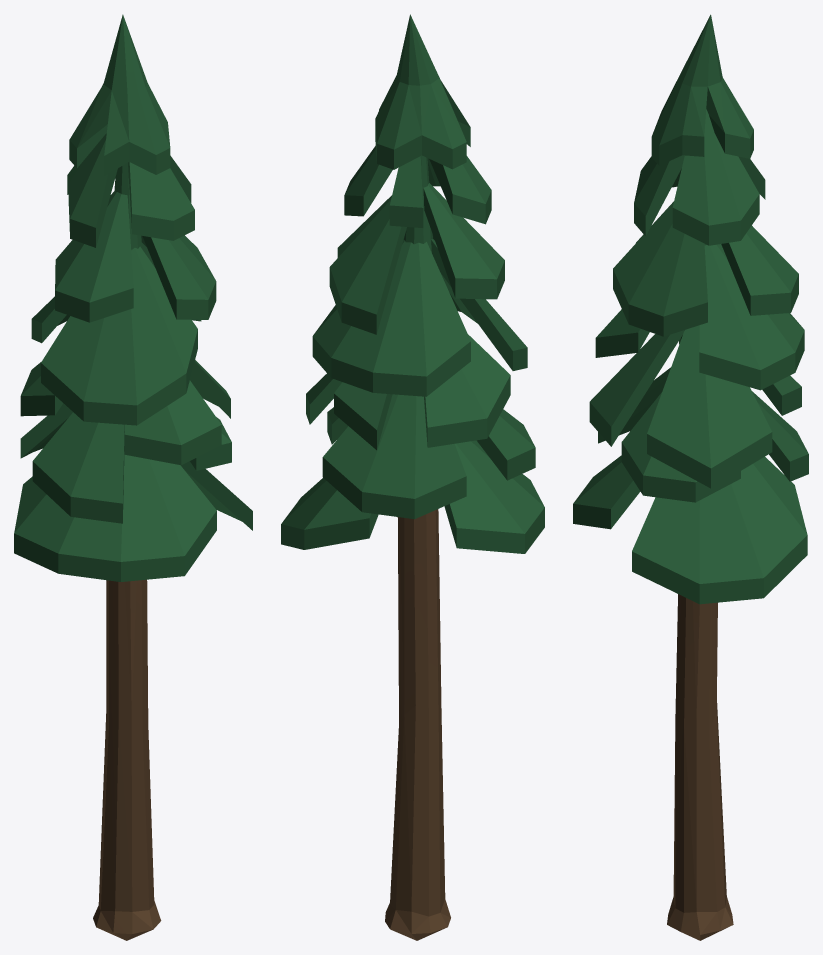
Rendered from tree9.fbx.
3 renders of one model, left to right at view 1: azimuth 30°, elevation 25°; view 2: azimuth 150°, elevation 25°; view 3: azimuth 270°, elevation 25°, orthographic.
Visible parts, largest first — view 1: polySurface1534; view 2: polySurface1534; view 3: polySurface1534.
Part boxes in pixels (x1=…): polySurface1534: x1=14, y1=14, x2=252, y2=940; polySurface1534: x1=281, y1=14, x2=544, y2=940; polySurface1534: x1=573, y1=14, x2=808, y2=940.
Bounding box in the file's own units: 148 × 578 × 133.
